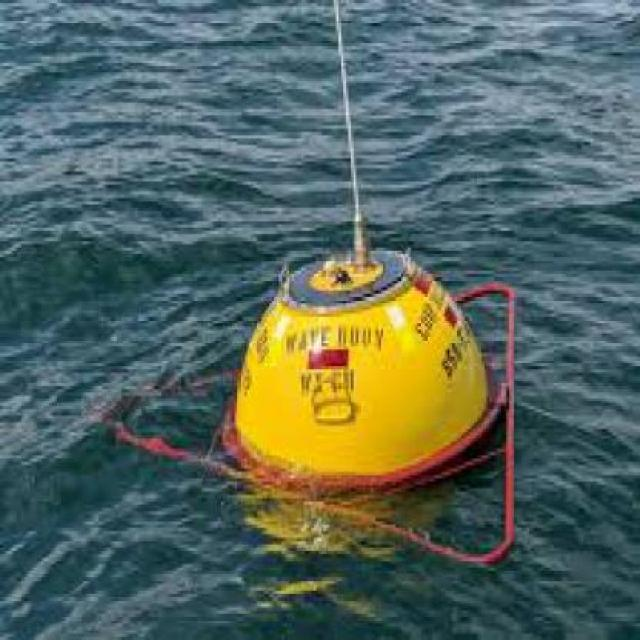buoy: (76, 1, 554, 592)
